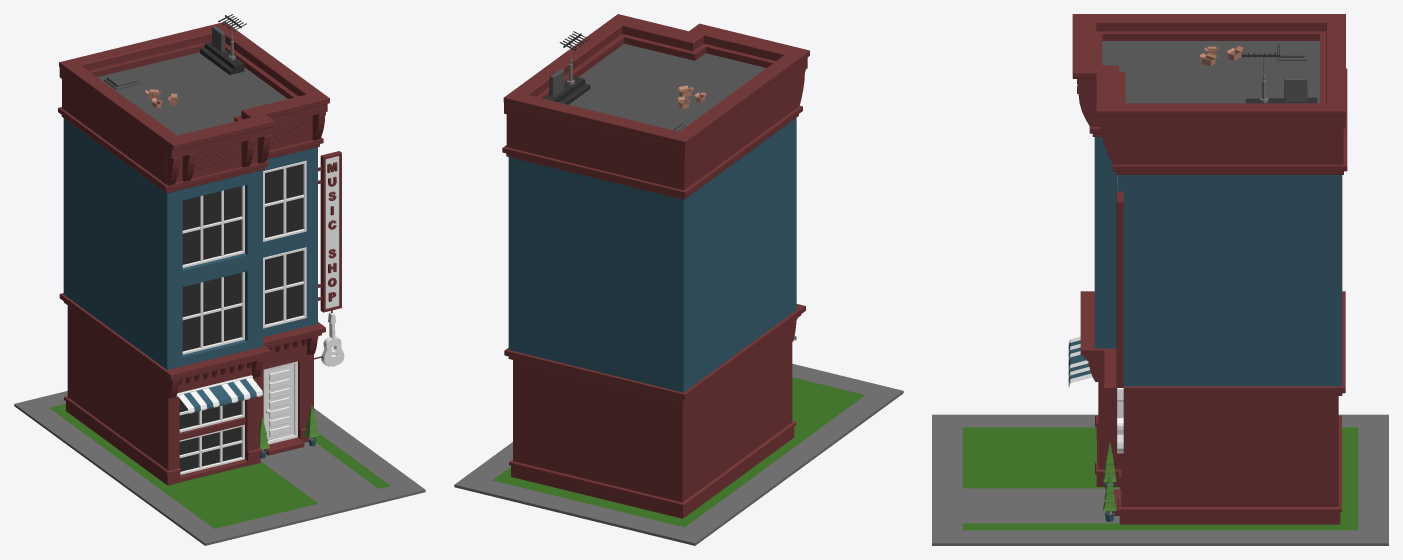
3 renders of one model, left to right at view 1: azimuth 30°, elevation 25°; view 2: azimuth 150°, elevation 25°; view 3: azimuth 270°, elevation 25°, orthographic. The views are drawn at different scales.
Parts seen in each view (by area): view 1: musicshop.001; view 2: musicshop.001; view 3: musicshop.001.
Part boxes in pixels (x1=…): musicshop.001: x1=14, y1=14, x2=425, y2=545; musicshop.001: x1=454, y1=14, x2=903, y2=545; musicshop.001: x1=932, y1=14, x2=1388, y2=545.
Bounding box in the file's own units: 10 × 16.69 × 15.
Materials: 1 (1 with a texture image).
